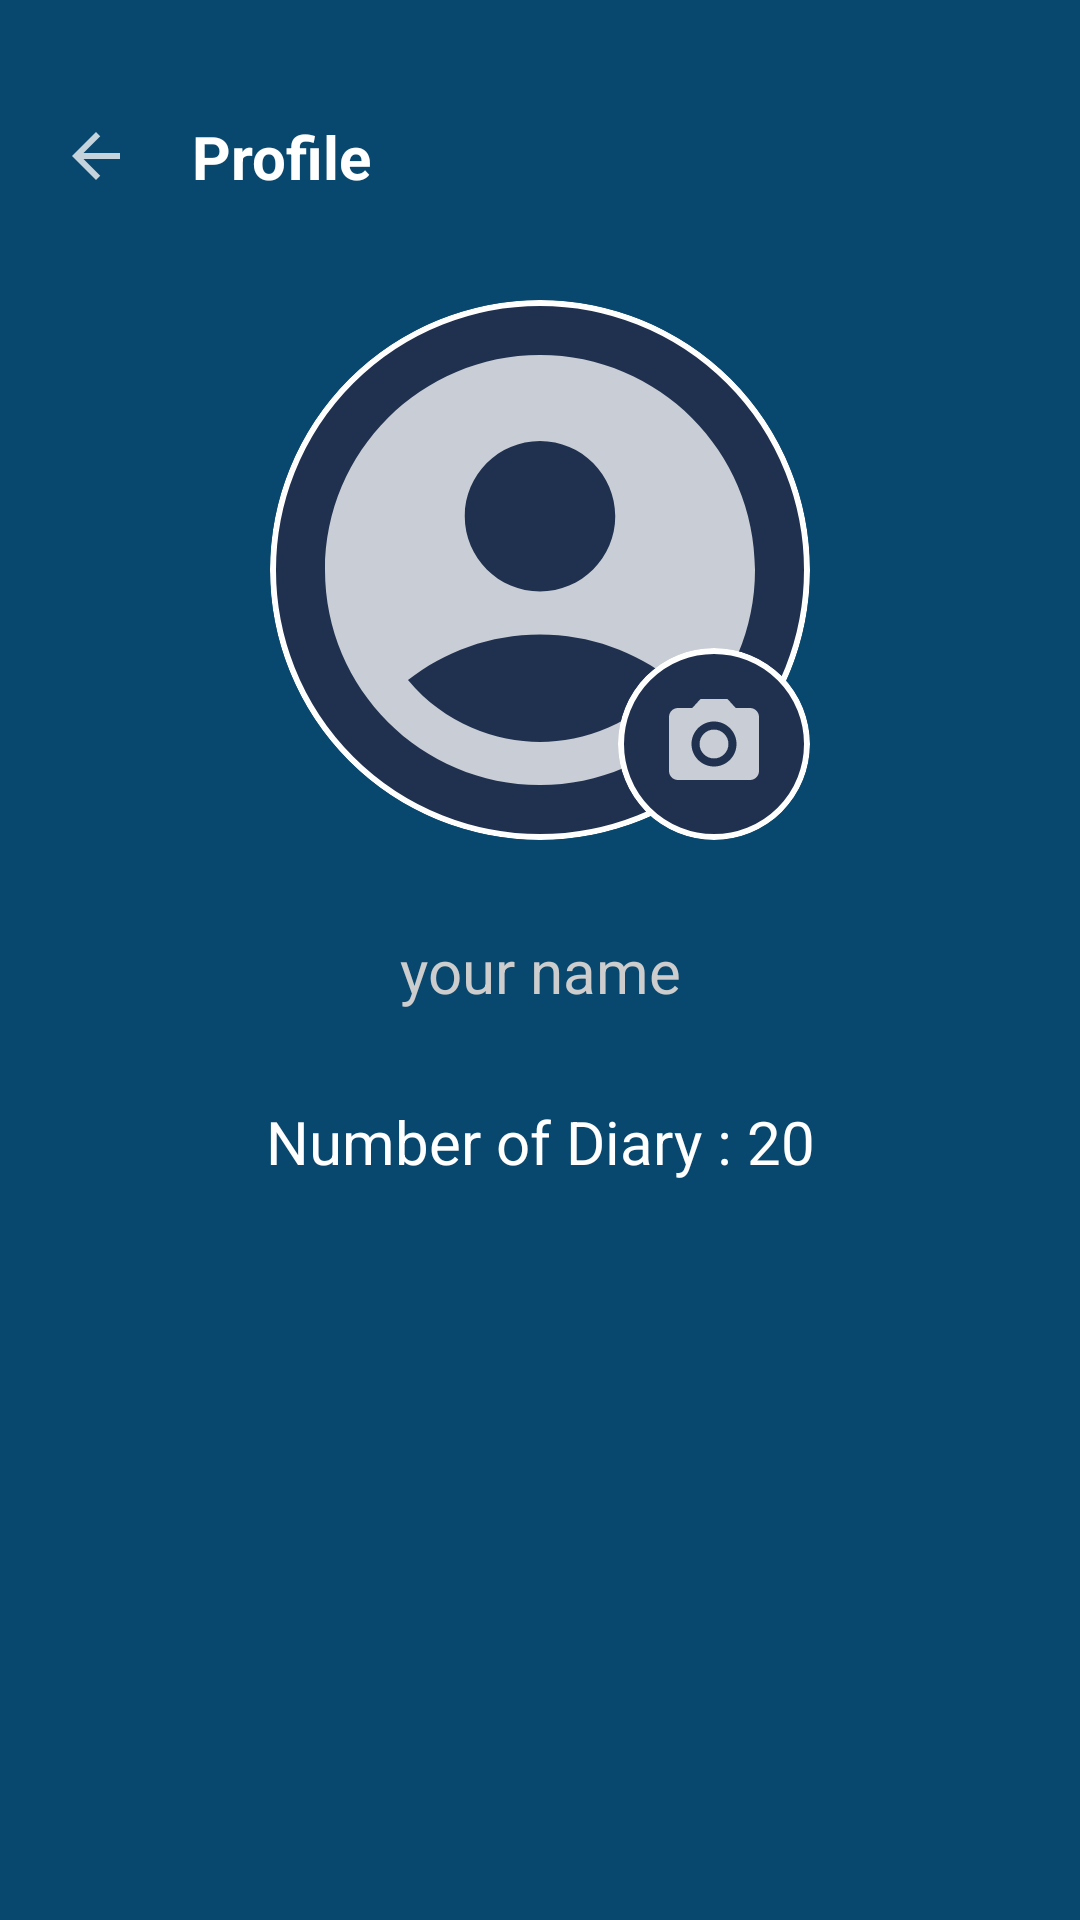

Named icons in this screenshot (1080 x 1920) and their centers, (x=x, y=y):
arrow back: (x=96, y=156)
